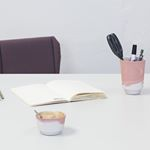cups: (115, 55, 148, 98), (31, 108, 69, 137)
